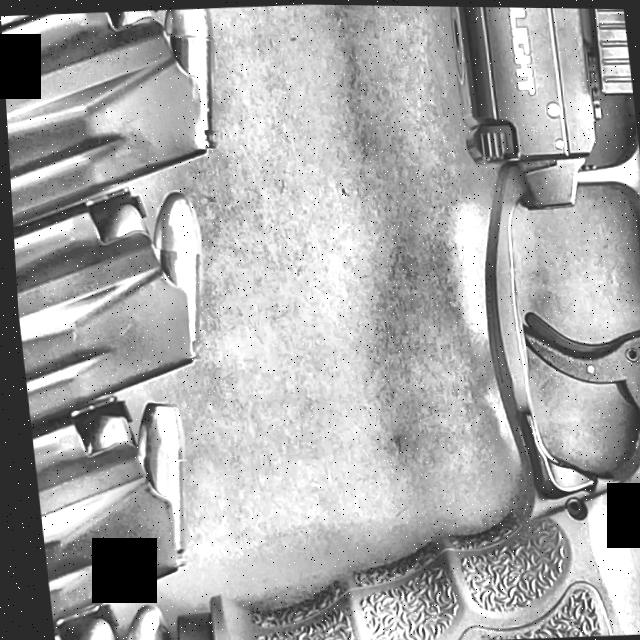Heckler - Koch -H-K-: (84, 1, 640, 640)
